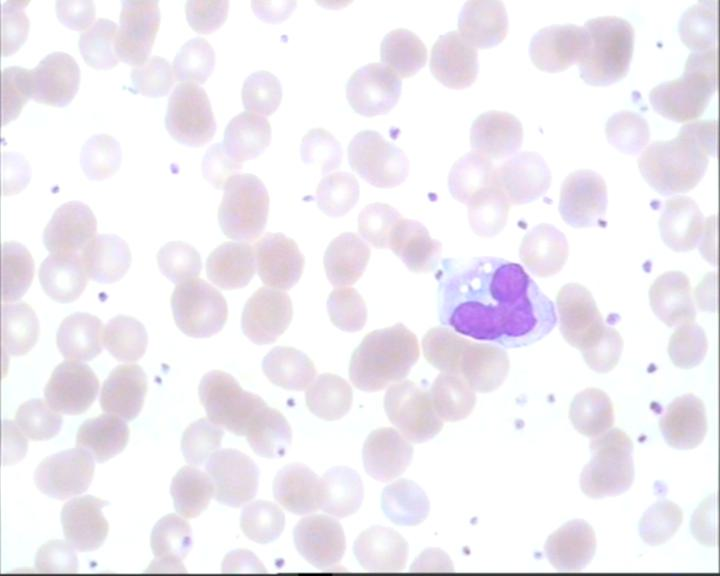mono: (432, 251, 560, 350)
